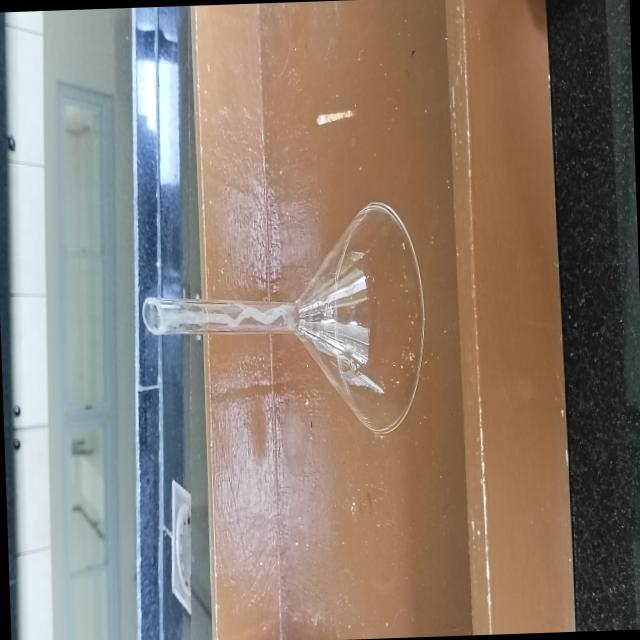funnel: (136, 191, 432, 445)
